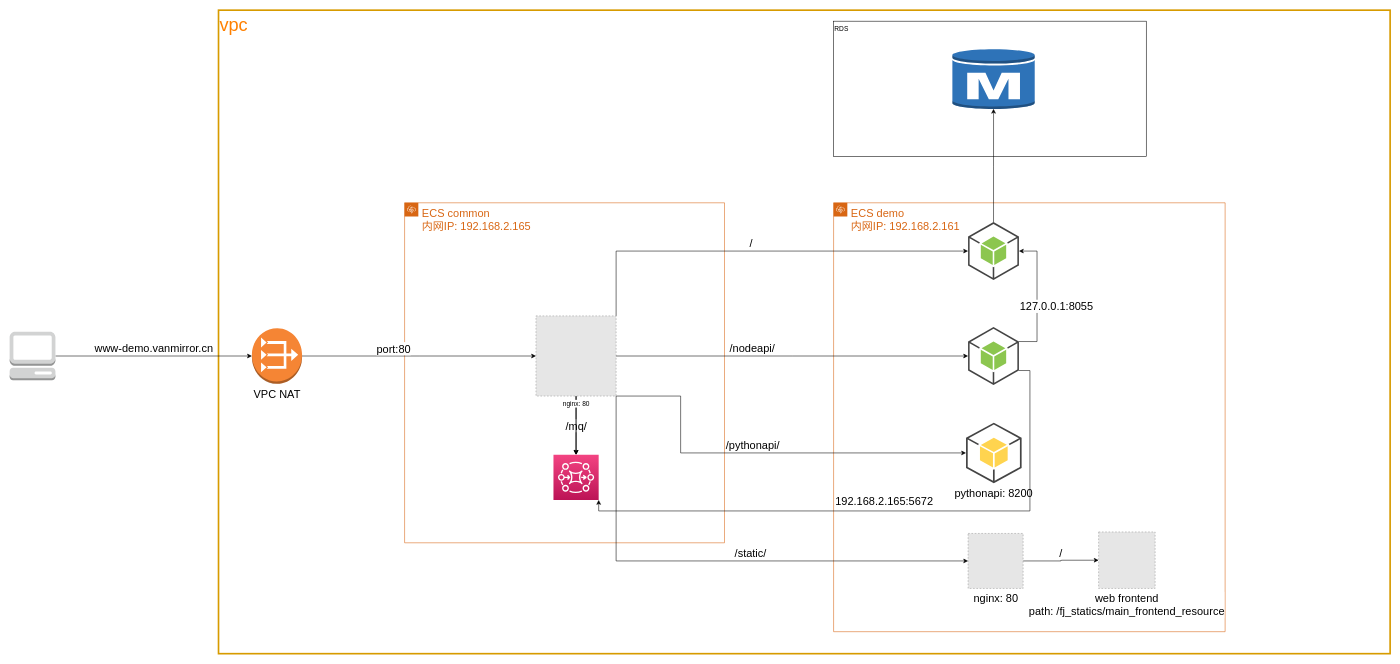
Image size: 1400x664. Some labels were removed from this diagram. Grey dashed boxes stand in for pictures. The centre of each missing label's shape, as x and y in pixels:
"client" belongs at point 32,355.
"directus: 8055" belongs at point 993,251.
"nodeAPI: 8100" belongs at point 993,355.
"portsgresSQL" belongs at point 993,79.
"RabbitMQ web port:15672" belongs at point 576,477.
